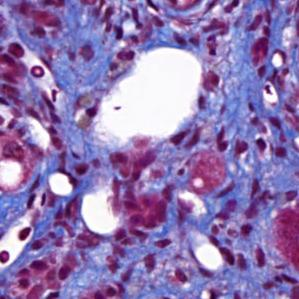inflammation: (49, 129, 101, 176), (205, 233, 252, 271), (252, 61, 289, 108)
